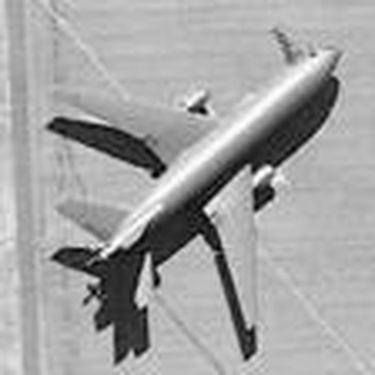airplane: (40, 33, 344, 348)
